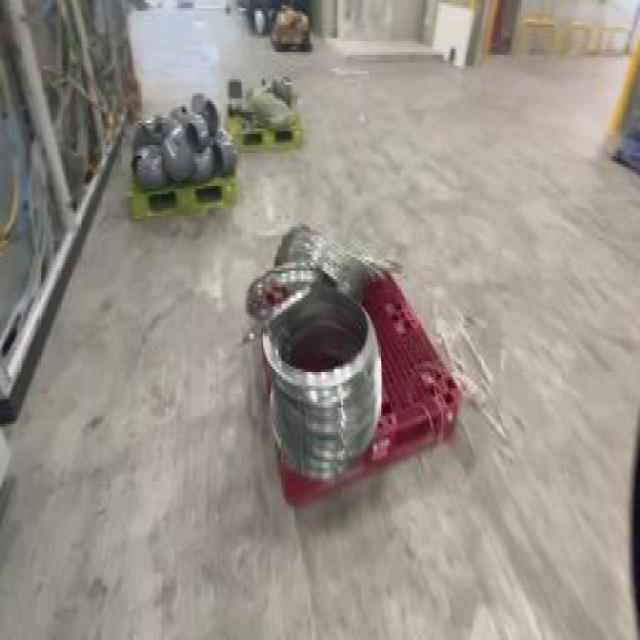box: (248, 230, 468, 498), (120, 110, 240, 210), (223, 71, 305, 156), (266, 8, 312, 58)
